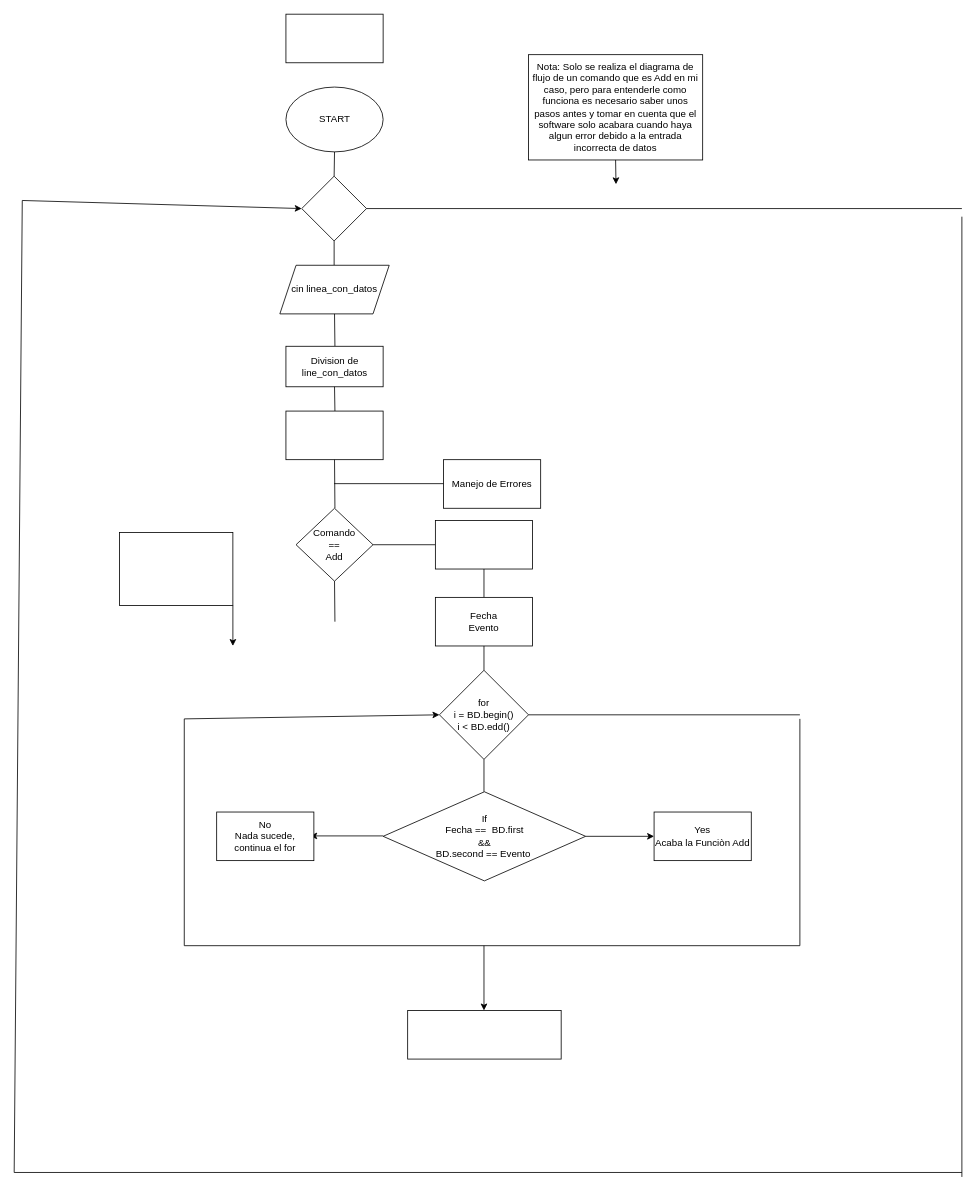
The diagram is 977 pixels wide and 1192 high, and some of its shapes have lost their labels. The shapes that lost their labels are listed below. From the top down, each one's centre as x and y in pixels, then its label:
At point 334,38: "Multimap Base de Datos (BD) (Global)".
At point 334,208: "True".
At point 334,435: "Comando Fecha Evento".
At point 484,544: "Void Funcion Add".
At point 176,568: "Nota: Seguirian los demas comandos, como se puede ver en los bocetos del github".
At point 484,1034: "BD.insert(make_pair(Fecha, Evento)".
